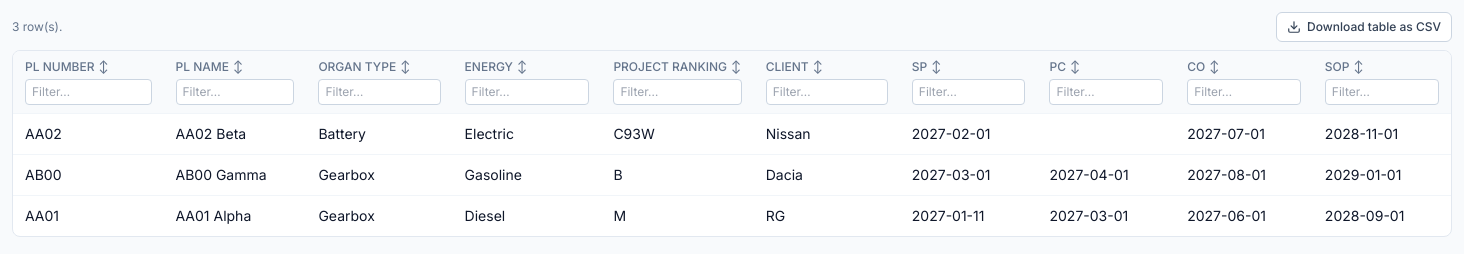
Test: FramingLineTable (§7.1, HIW-460) › switches to visible-of-total once a filter narrows the set, and back once cleared
In the field with test id "filter-organType": {"x": 380, "y": 92} [318,79,441,105], type "gear"
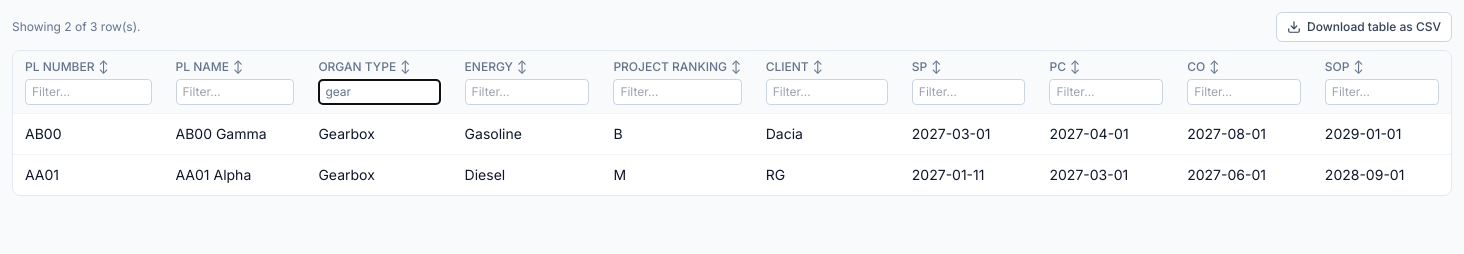
Expected: the text with test id "framing-table-row-count" shows "3", [12,19,140,34]
Result: the text with test id "framing-table-row-count" shows "2" at [12,19,140,34]
Clear the field with test id "filter-organType": {"x": 380, "y": 92} [318,79,441,105]
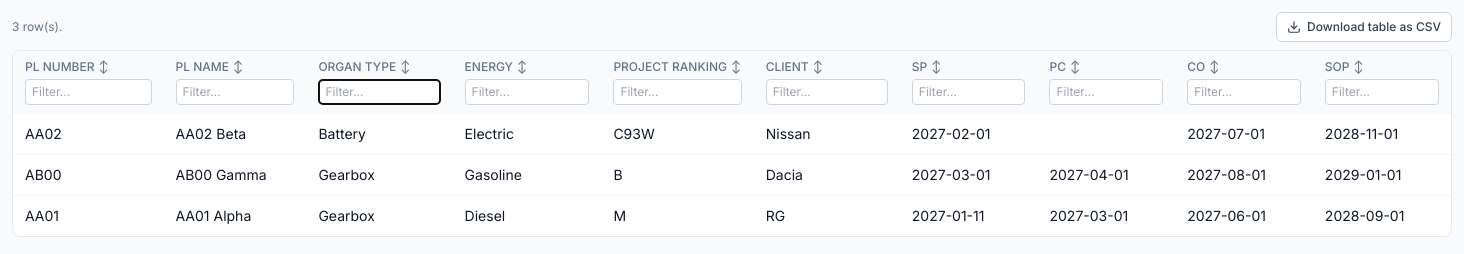
Result: the text with test id "framing-table-row-count" no longer shows "of" at [12,19,62,35]
